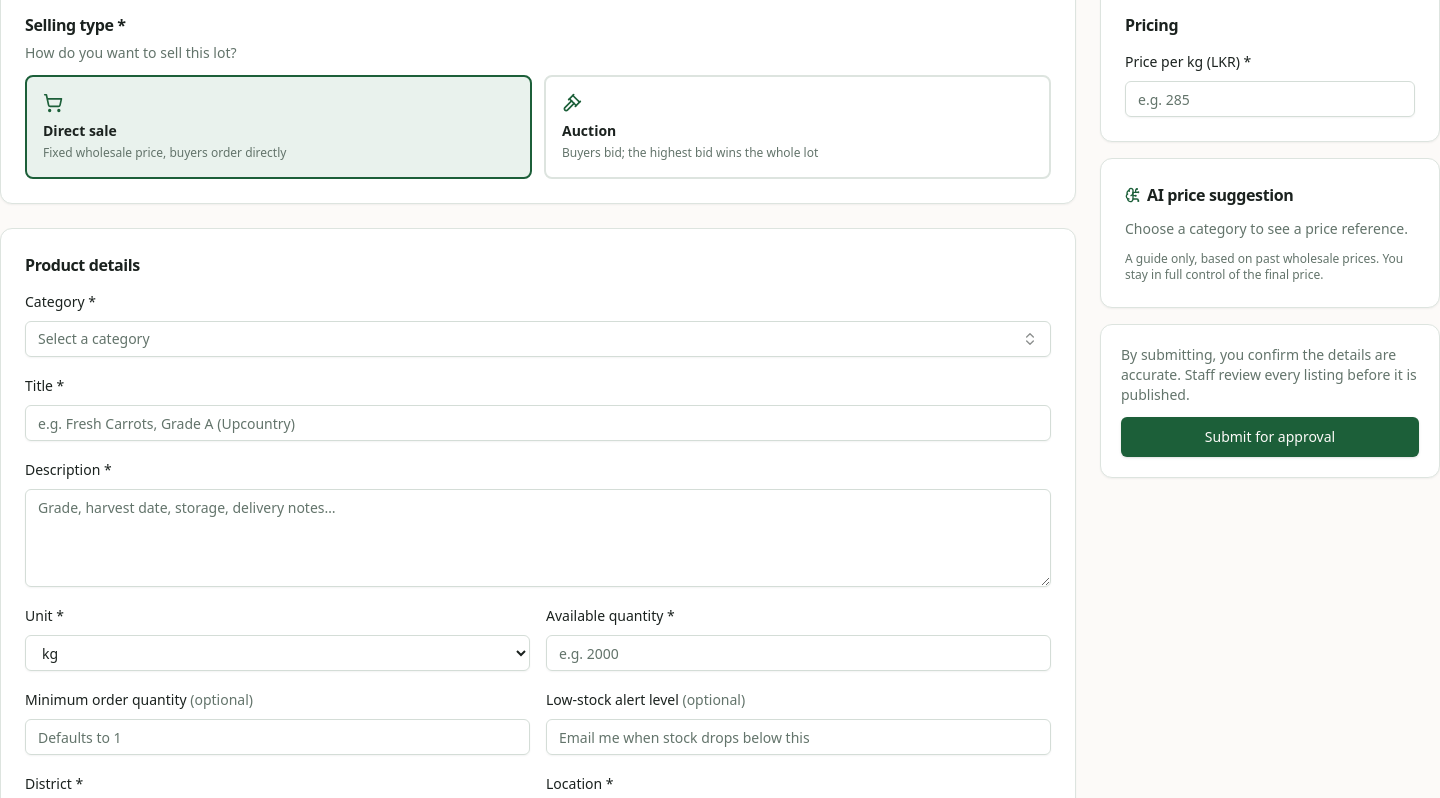
ListingForm: creating › states the auction rules and asks for an acknowledgement
What coordinates should you click on to do the following:
click the button "Auction Buyers bid; the highest bid wins the whole lot"
I would click on:
 (589, 130)
Its box is x1=544 y1=75 x2=1051 y2=179.
(page scrolled)
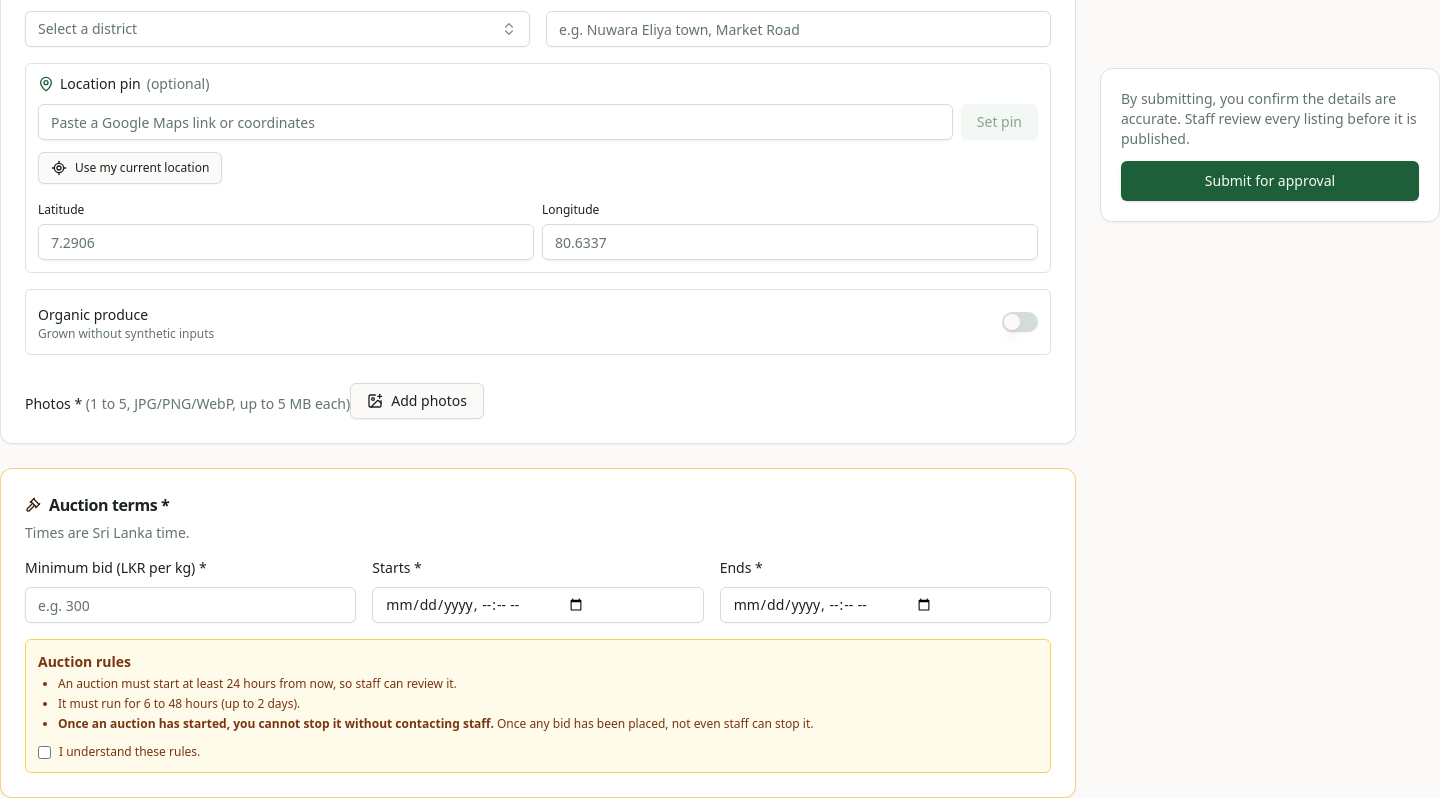
Check: the list item "at least 24 hours from now" is shown, box x1=58 y1=675 x2=457 y2=692
Check: the list item "It must run for 6 to 48 hours (up to 2 days)." is shown, box x1=58 y1=695 x2=300 y2=712
Check: the text "cannot stop it without contacting staff" is shown, box x1=58 y1=715 x2=494 y2=732
